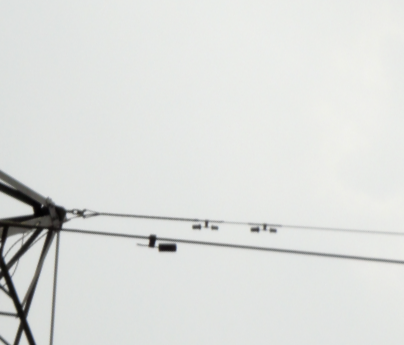damper: (248, 221, 278, 234), (191, 218, 221, 230)
damper_defect: (133, 232, 178, 254)
